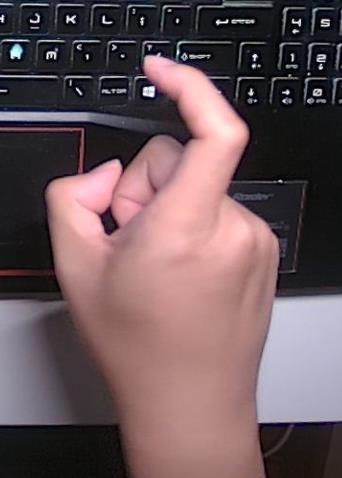anticlockwise: (41, 51, 283, 392)
